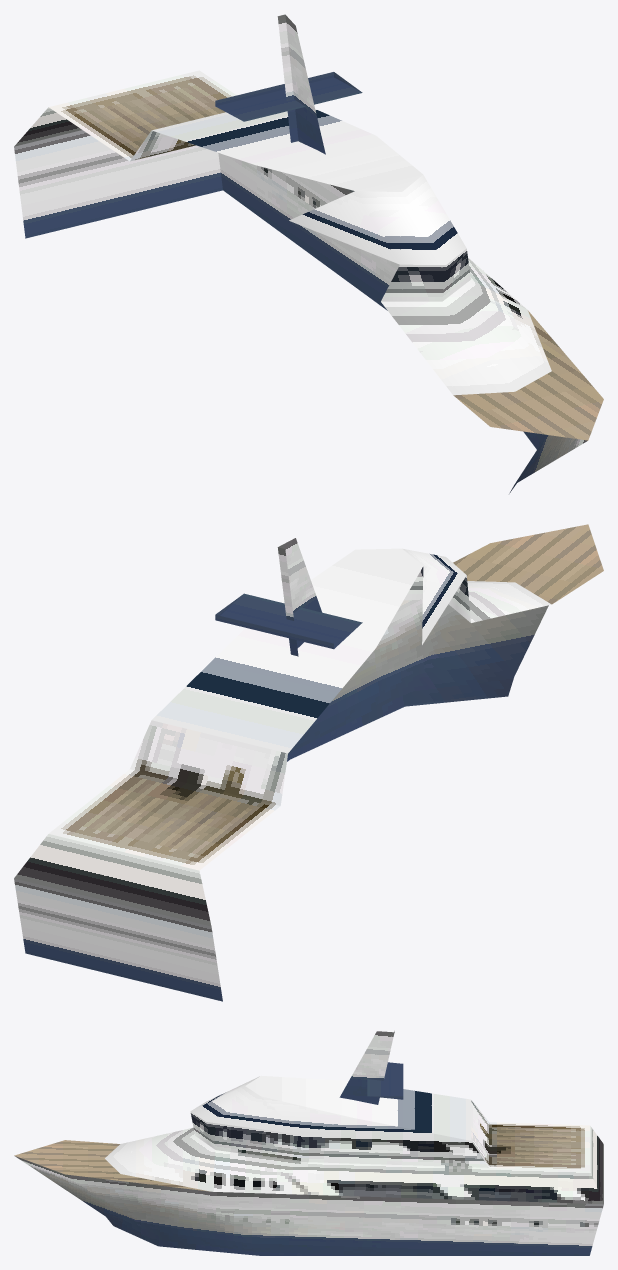
Rendered from stage-palm-p6-682.glb.
3 views of the same model, one above another, from view 1: azimuth 30°, elevation 25°; view 2: azimuth 150°, elevation 25°; view 3: azimuth 270°, elevation 25° (orthographic). The views are drawn at different scales.
Bounding box in the file's own units: 9.6 × 14.59 × 40.03.
1 material, 1 textured.
